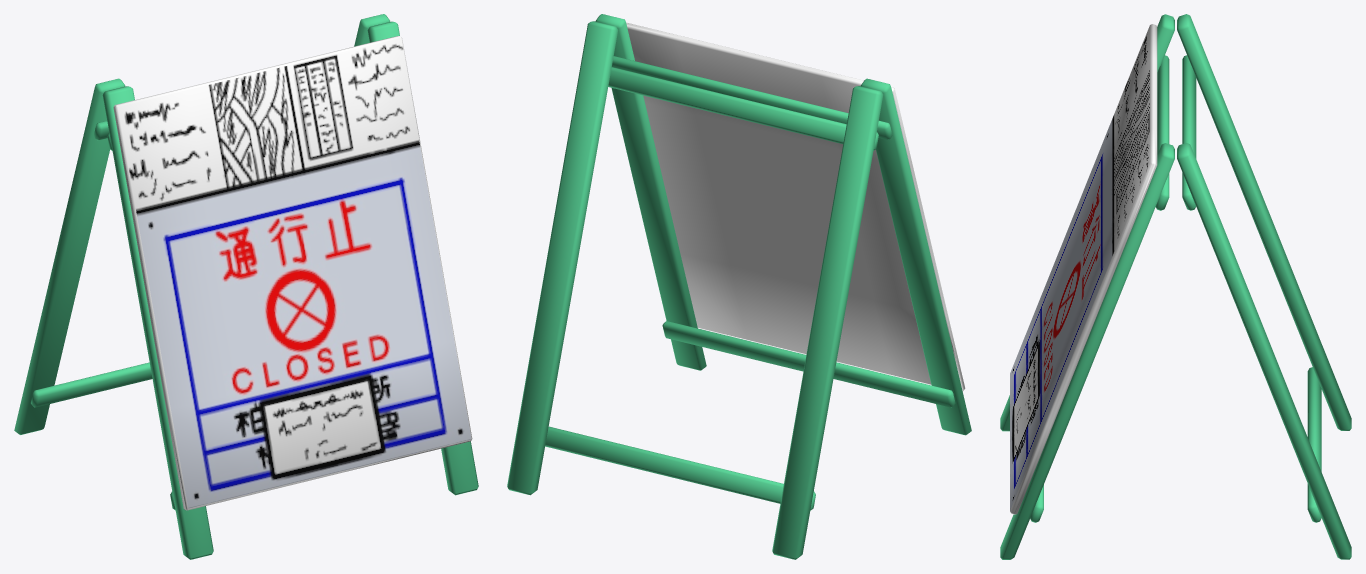
Rendered from RadiationWarningSign.fbx.
3 renders of one model, left to right at view 1: azimuth 30°, elevation 25°; view 2: azimuth 150°, elevation 25°; view 3: azimuth 270°, elevation 25°, orthographic.
Visible parts, largest first — view 1: legs; view 2: legs; view 3: legs.
Part boxes in pixels (x1,y1,x2,y2): legs: (14, 14, 478, 559); legs: (507, 14, 971, 559); legs: (1000, 14, 1351, 559).
Bounding box in the file's own units: 115 × 154 × 120.
